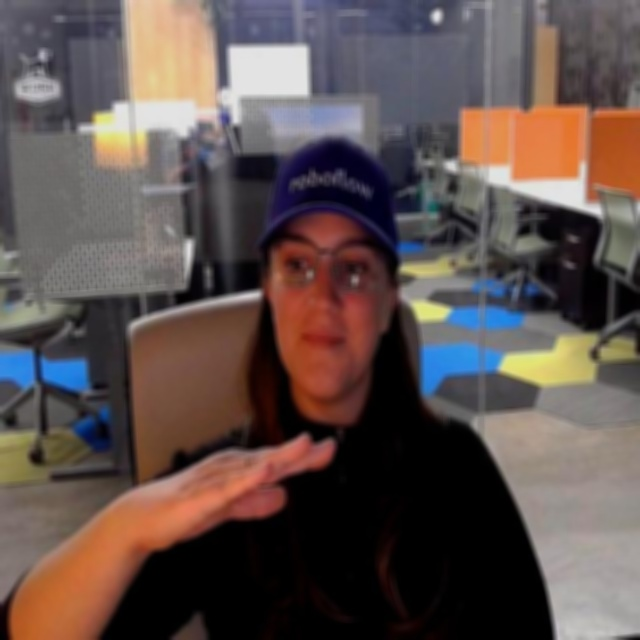Paper: (138, 418, 341, 548)
